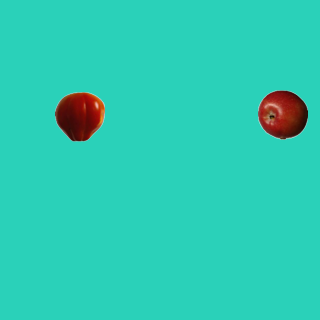Apple Braeburn: (257, 89, 307, 139)
Tomato 1: (54, 91, 104, 141)
